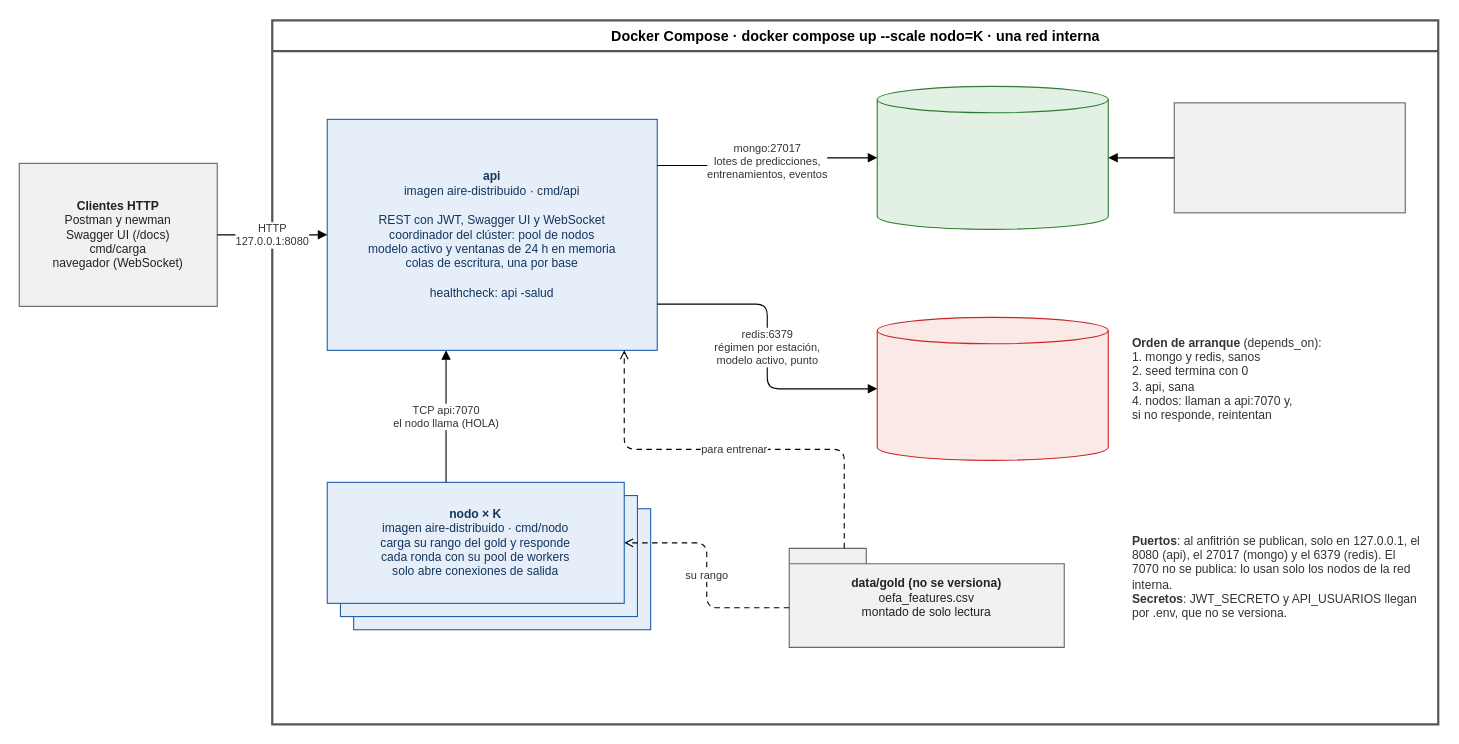
Image size: 1459x744. Some labels were removed from this diagram. The shapes that lost their labels are listed below. From the top down, each one's box as (x1, y1, x2, y2) in pixels, then its label:
(876, 85, 1108, 229): mongo MongoDB volumen mongo_data healthcheck: mongosh ping
(1173, 102, 1405, 213): seed mongosh seed.js, una pasada: colecciones, índices y estaciones de la ficha
(876, 316, 1108, 460): redis Redis con appendonly volumen redis_data healthcheck: redis-cli ping
